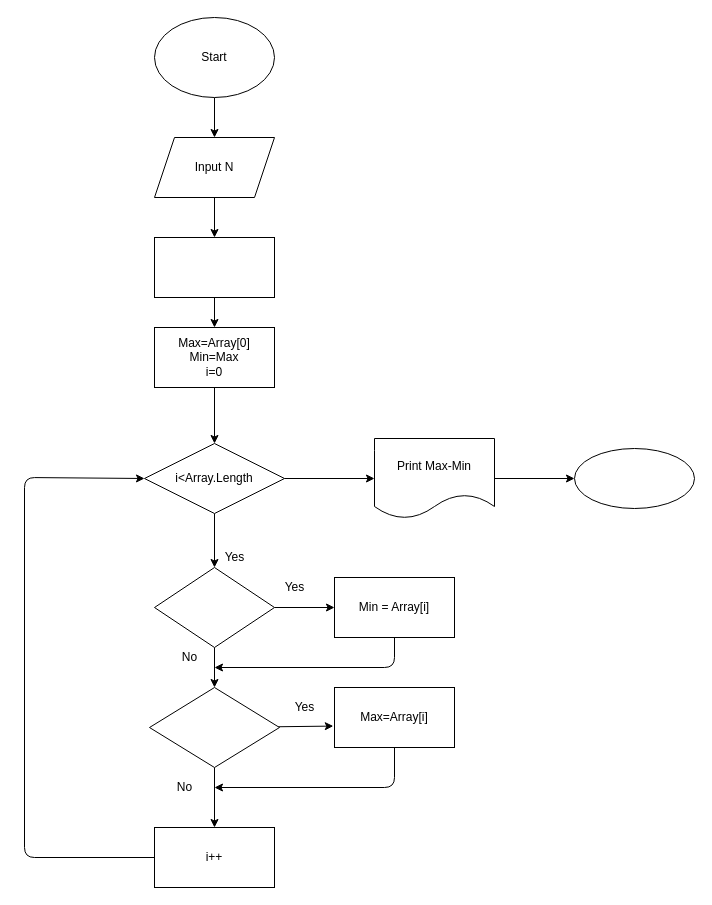
The diagram is 712 pixels wide and 905 high, and some of its shapes have lost their labels. Each missing label, with the centre of its shape:
"Array[i]<Min" goes at point 214,607.
"Array[i]>Max" goes at point 214,727.
"Finish" goes at point 634,478.
"GEnerate Array[N]" goes at point 214,267.
